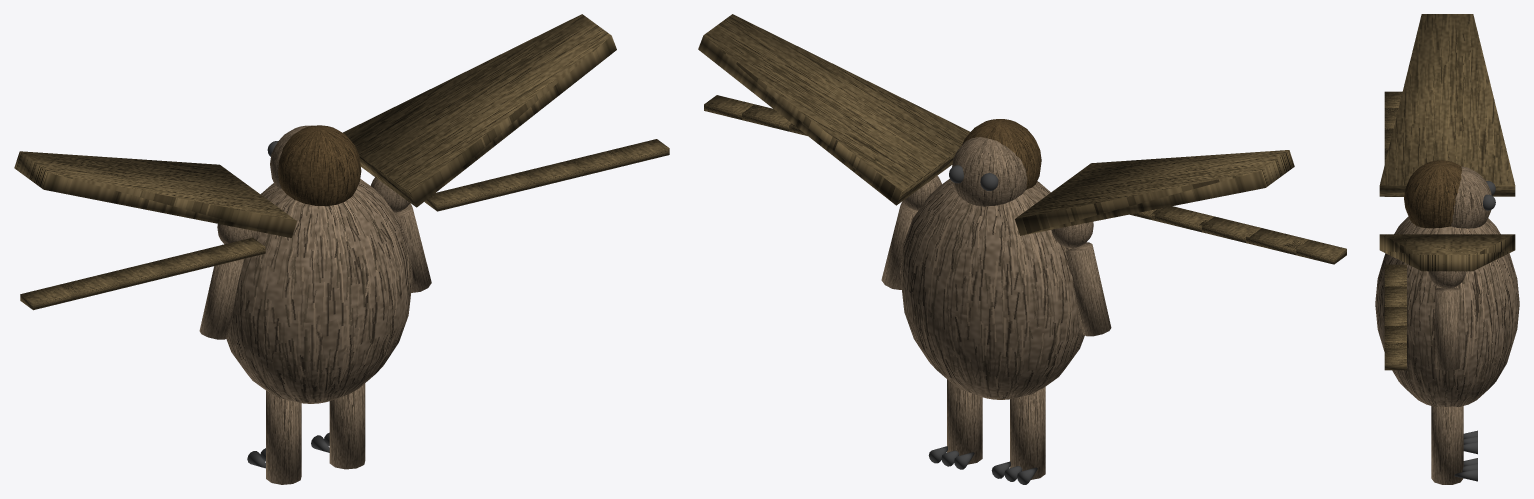
Rendered from harpy.glb.
The picture shows the model from 3 angles, left to right: view 1: azimuth 30°, elevation 25°; view 2: azimuth 150°, elevation 25°; view 3: azimuth 270°, elevation 25°; orthographic projection. The views are drawn at different scales.
Visible parts, largest first — view 1: Torso, Wing.001, Wing, HairStrands, Leg, Leg.001, Arm, Arm.001, Feather.005, Feather, Feather.003, Feather.001 (+6 smaller); view 2: Torso, Wing.001, Wing, Head, Leg, Arm, Leg.001, HairStrands, Arm.001, Feather.001, Feather.003, Feather.002 (+4 smaller); view 3: Wing, Torso, Wing.001, HairStrands, Leg.001, Arm.001, Head, Feather.009, ShoulderJoint.001, Feather.005, Feather.008, Feather.006 (+5 smaller).
Boxes of the visible parts, x1,y1,x2,y2 form: Torso: (226,179,412,403); Wing.001: (343,14,616,207); Wing: (14,151,296,237); HairStrands: (278,125,361,206); Leg: (266,390,301,484); Leg.001: (329,383,365,469); Arm: (199,244,244,339); Arm.001: (395,203,431,292); Feather.005: (424,183,488,211); Feather: (202,237,265,265); Feather.003: (59,273,121,300); Feather.001: (154,249,217,277); Torso: (900,179,1084,399); Wing.001: (698,14,970,205); Wing: (1015,150,1294,235); Head: (952,137,1027,206); Leg: (1010,387,1045,479); Arm: (1066,242,1111,336); Leg.001: (947,379,982,464); HairStrands: (962,119,1041,190); Arm.001: (881,201,917,289); Feather.001: (1151,206,1214,232); Feather.003: (1246,228,1308,255); Feather.002: (1199,216,1261,242); Wing: (1379,14,1515,196); Torso: (1375,216,1519,407); Wing.001: (1379,234,1515,271); HairStrands: (1404,160,1461,228); Leg.001: (1431,406,1463,484); Arm.001: (1435,288,1459,370); Head: (1451,166,1491,228); Feather.009: (1384,342,1406,370); ShoulderJoint.001: (1428,271,1466,288); Feather.005: (1384,264,1406,286); Feather.008: (1384,326,1406,347); Feather.006: (1384,286,1406,306).
Size of the model in its own units: 2 by 1.13 by 0.448.
Materials: 4 (3 with a texture image).
